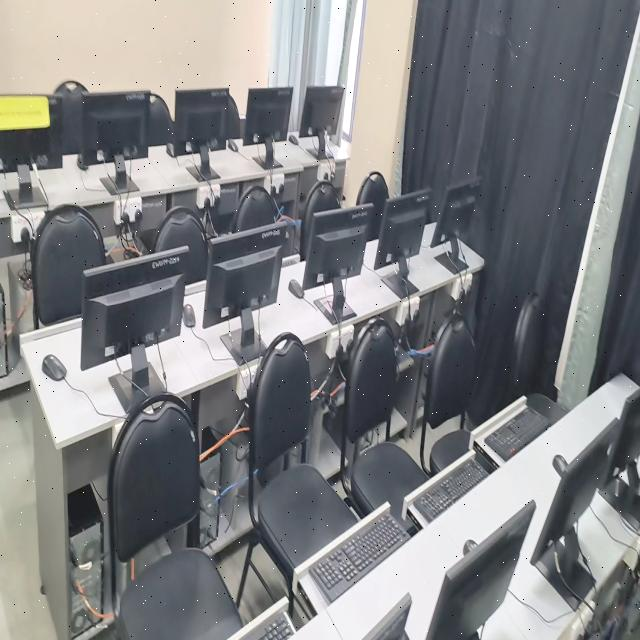Chair: (105, 393, 242, 640), (246, 333, 358, 616), (341, 318, 427, 520), (30, 204, 106, 329), (420, 306, 476, 470), (153, 206, 207, 284), (511, 292, 542, 399), (299, 180, 340, 259), (54, 81, 90, 153), (356, 171, 389, 240), (233, 186, 279, 233), (147, 94, 174, 147), (217, 95, 240, 148)
Cpu: (68, 485, 104, 639), (200, 452, 238, 546)
Keyboard: (310, 507, 410, 605), (401, 451, 497, 529), (475, 406, 554, 462), (226, 597, 296, 640)
Monitor: (425, 503, 534, 640), (81, 247, 196, 370), (530, 421, 620, 564), (203, 224, 292, 327), (302, 204, 374, 322), (173, 88, 229, 178), (83, 92, 151, 165), (0, 95, 63, 172), (374, 189, 430, 269), (430, 177, 479, 258), (605, 388, 640, 481), (243, 87, 293, 145), (300, 85, 345, 137), (361, 594, 411, 640)
Mouse: (42, 355, 67, 381), (552, 454, 568, 481), (183, 304, 195, 328), (289, 279, 304, 298), (227, 139, 238, 152), (288, 132, 299, 144)
